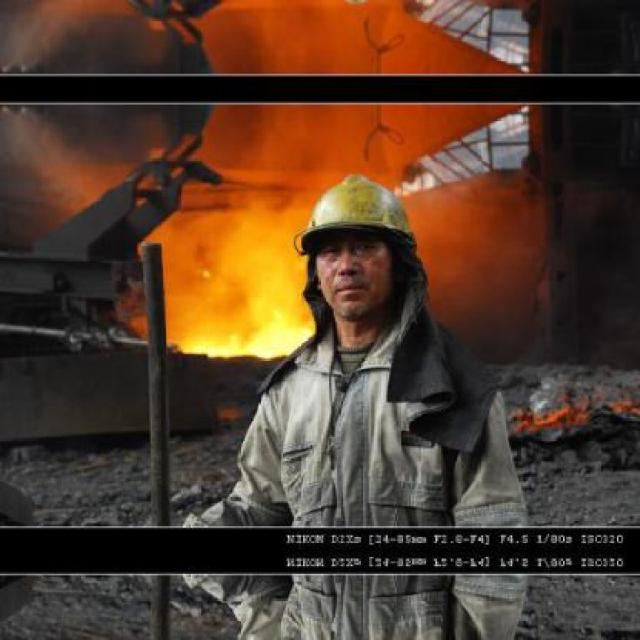helmet: (287, 162, 418, 330)
